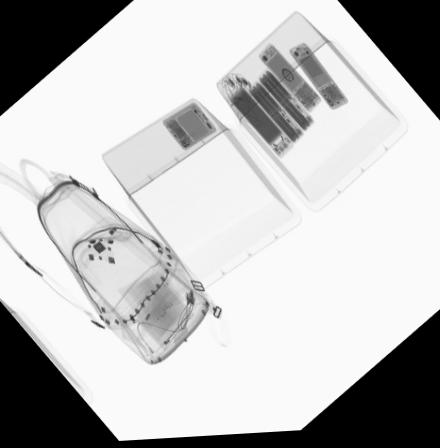Powerbank: (224, 84, 292, 162), (246, 84, 302, 146), (257, 72, 312, 135)
